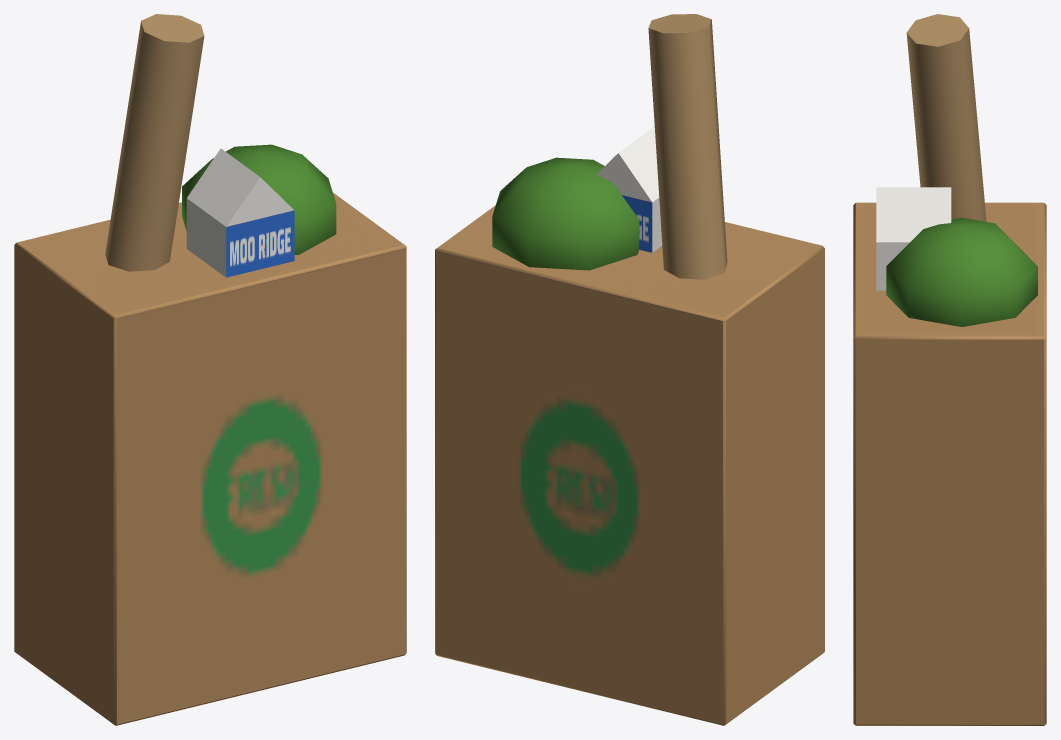
Rendered from paper_bag.glb.
3 views of the same model, side by side, from view 1: azimuth 30°, elevation 25°; view 2: azimuth 150°, elevation 25°; view 3: azimuth 270°, elevation 25° (orthographic). The views are drawn at different scales.
Parts seen in each view (by area): view 1: paper_bag; view 2: paper_bag; view 3: paper_bag.
Part boxes in pixels (bbox=[...]): paper_bag: bbox=[14, 14, 406, 725]; paper_bag: bbox=[435, 14, 824, 725]; paper_bag: bbox=[853, 14, 1046, 725].
Bounding box in the file's own units: 1.33 × 2.8 × 0.8.
5 materials, 2 textured.
